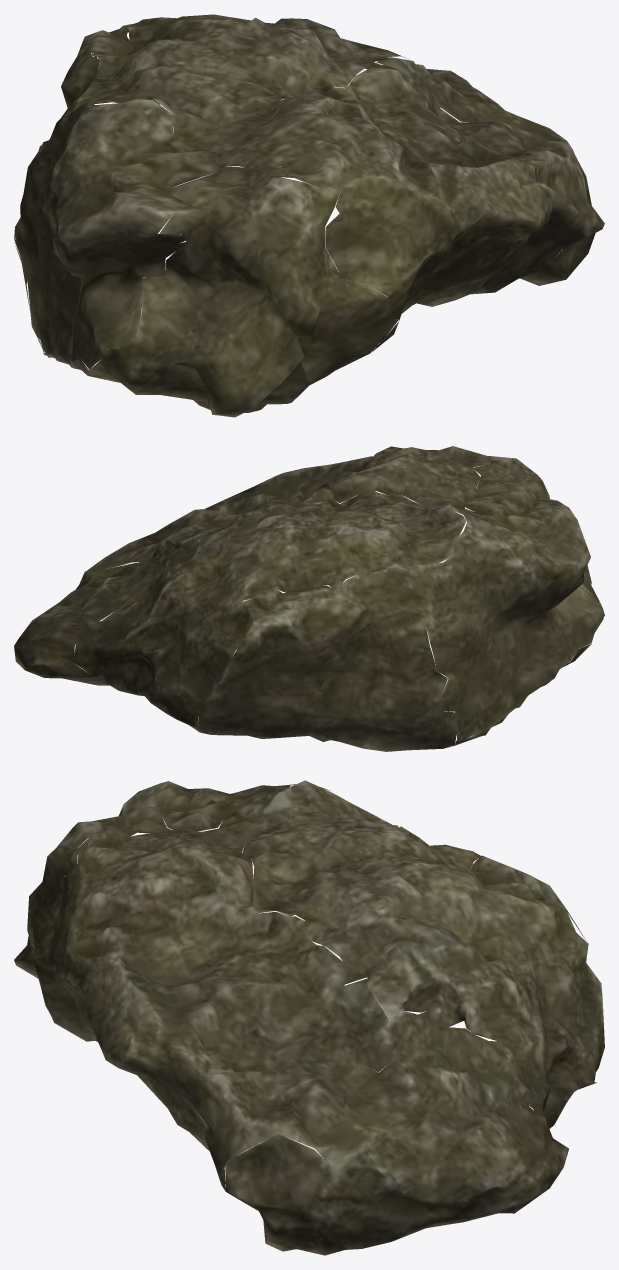
The model's file is rock-moss-set-02-rock12.glb.
3 renders of one model, top to bottom at view 1: azimuth 30°, elevation 25°; view 2: azimuth 150°, elevation 25°; view 3: azimuth 270°, elevation 25°, orthographic. The views are drawn at different scales.
Parts seen in each view (by area): view 1: rock_moss_set_02_rock12; view 2: rock_moss_set_02_rock12; view 3: rock_moss_set_02_rock12.
Boxes of the visible parts, x1,y1,x2,y2 form: rock_moss_set_02_rock12: (14, 14, 604, 417); rock_moss_set_02_rock12: (14, 446, 604, 751); rock_moss_set_02_rock12: (14, 780, 604, 1255).
Bounding box in the file's own units: 1.58 × 0.7357 × 1.45.
1 material, 1 textured.
